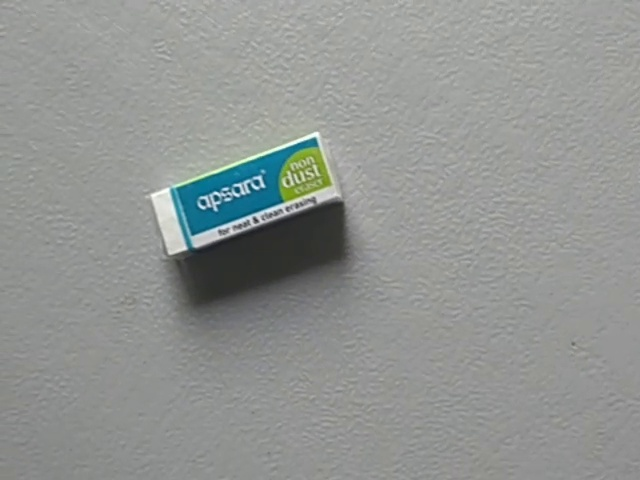Eraser: (140, 128, 346, 260)
